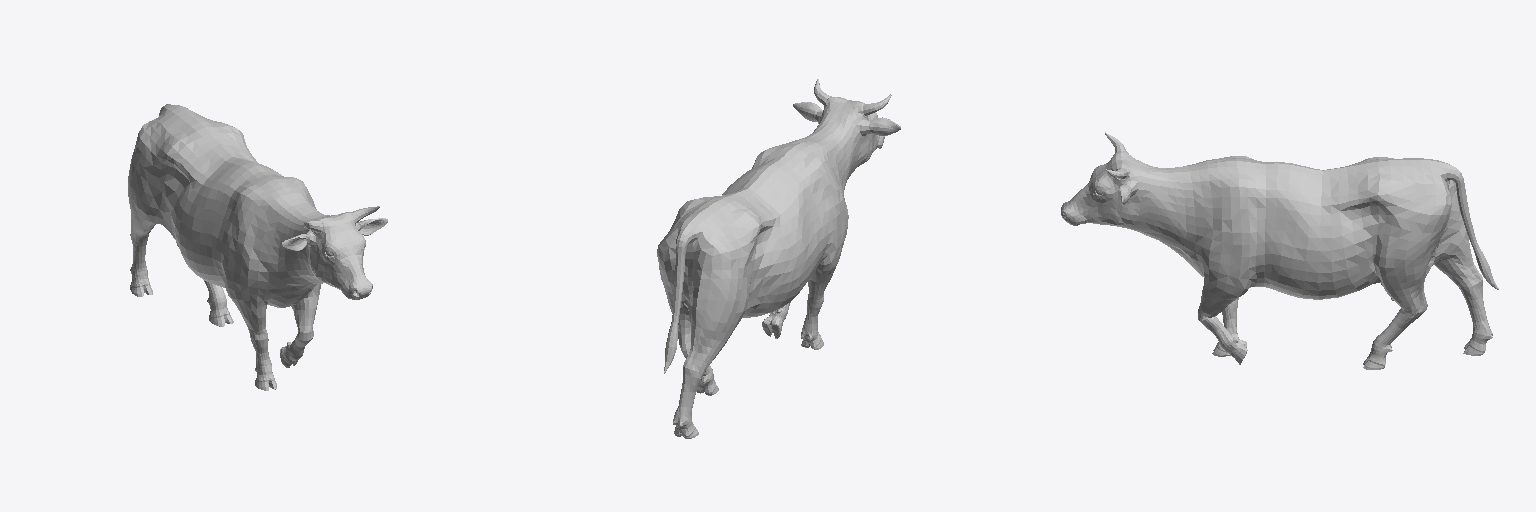
3 renders of one model, left to right at view 1: azimuth 30°, elevation 25°; view 2: azimuth 150°, elevation 25°; view 3: azimuth 270°, elevation 25°, orthographic.
Parts seen in each view (by area): view 1: Cow_LOD0_Cube; view 2: Cow_LOD0_Cube; view 3: Cow_LOD0_Cube.
Boxes of the visible parts, box(x1,y1,x2,y2) form: Cow_LOD0_Cube: box(128, 104, 387, 390); Cow_LOD0_Cube: box(657, 79, 900, 438); Cow_LOD0_Cube: box(1061, 132, 1498, 369).
Size of the model in its own units: 0.8197 by 1.55 by 2.9.